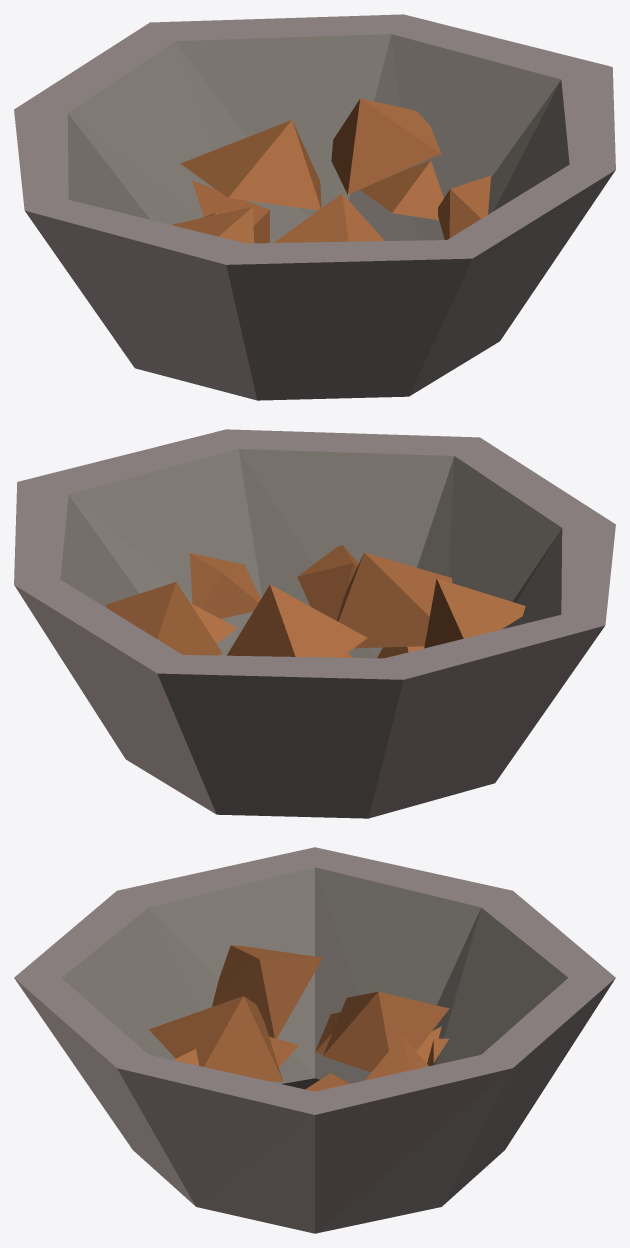
File: inv_panning_tray_3.obj
The picture shows the model from 3 angles, top to bottom: view 1: azimuth 30°, elevation 25°; view 2: azimuth 150°, elevation 25°; view 3: azimuth 270°, elevation 25°; orthographic projection. The views are drawn at different scales.
Bounding box in the file's own units: 0.625 × 0.1875 × 0.5938.
